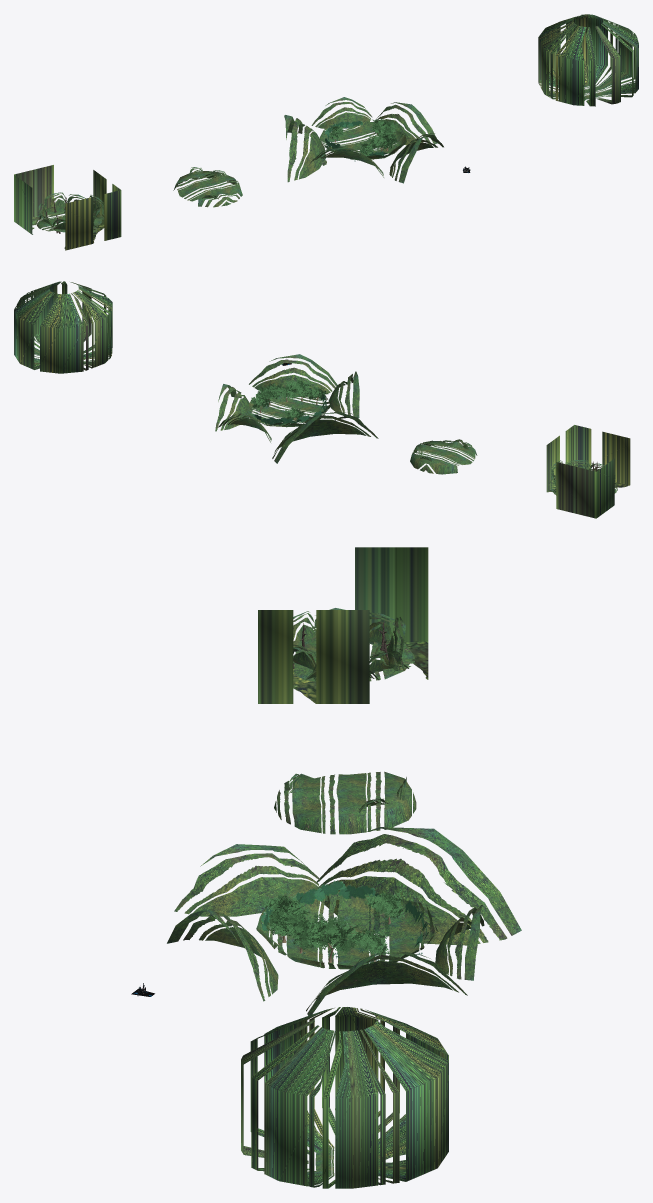
File: BattleField.dae
The picture shows the model from 3 angles, top to bottom: view 1: azimuth 30°, elevation 25°; view 2: azimuth 150°, elevation 25°; view 3: azimuth 270°, elevation 25°; orthographic projection. The views are drawn at different scales.
Parts seen in each view (by area): view 1: World-battleFieldScene00, World-battleFieldScene01, World-battleFieldScene03, World-battleFieldScene02; view 2: World-battleFieldScene00, World-battleFieldScene01, World-battleFieldScene03, World-battleFieldScene02; view 3: World-battleFieldScene00, World-battleFieldScene01, World-battleFieldScene03, World-battleFieldScene02.
Boxes of the visible parts, bbox=[...] form: World-battleFieldScene00: bbox=[538, 14, 638, 106]; World-battleFieldScene01: bbox=[284, 97, 443, 183]; World-battleFieldScene03: bbox=[14, 165, 121, 250]; World-battleFieldScene02: bbox=[173, 167, 242, 207]; World-battleFieldScene00: bbox=[14, 281, 112, 373]; World-battleFieldScene01: bbox=[215, 354, 378, 463]; World-battleFieldScene03: bbox=[546, 425, 630, 518]; World-battleFieldScene02: bbox=[410, 439, 477, 474]; World-battleFieldScene00: bbox=[241, 1007, 448, 1188]; World-battleFieldScene01: bbox=[167, 827, 521, 1015]; World-battleFieldScene03: bbox=[258, 547, 428, 703]; World-battleFieldScene02: bbox=[274, 771, 416, 834].
Bounding box in the file's own units: 344 × 97.97 × 44.89.
9 materials, 9 textured.
